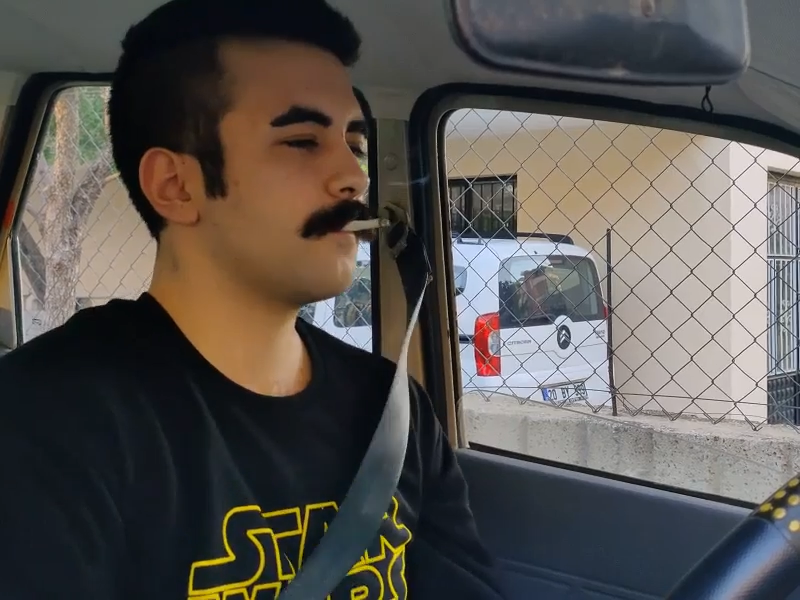sigara: (338, 213, 393, 239)
